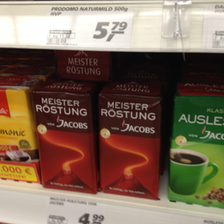coffee: (98, 85, 162, 201), (32, 82, 98, 193), (169, 91, 224, 206), (1, 81, 38, 167)
